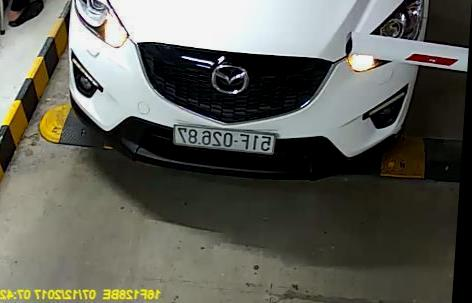License_Plate: (168, 125, 282, 155)
